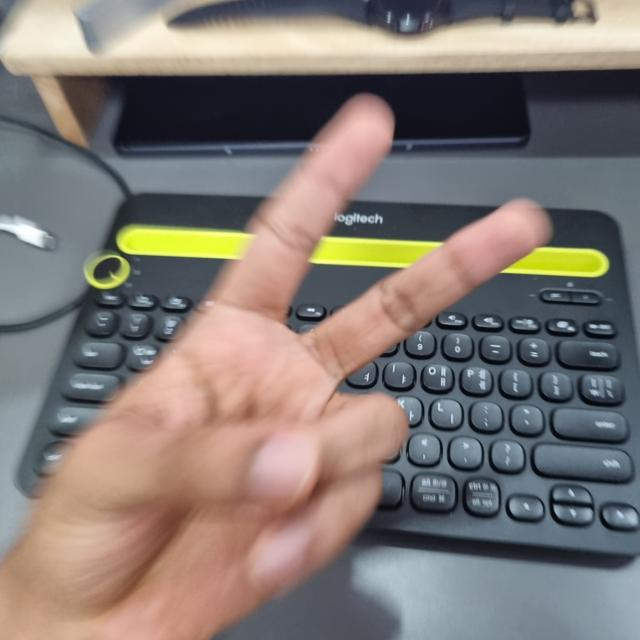Scissors: (15, 98, 543, 639)
